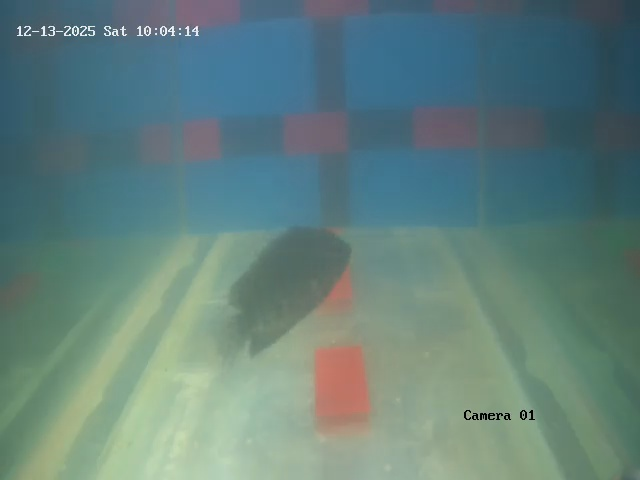fish: (233, 216, 355, 373)
